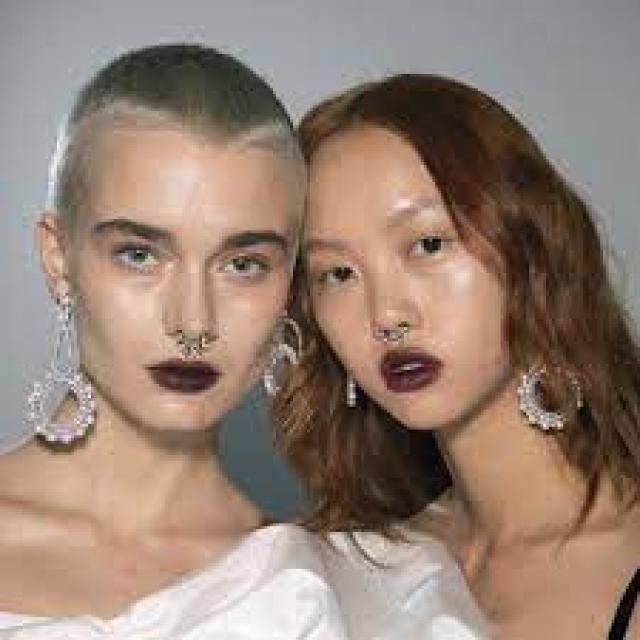Earring: (18, 271, 100, 467), (510, 348, 590, 443), (256, 310, 312, 400), (333, 376, 359, 403)
